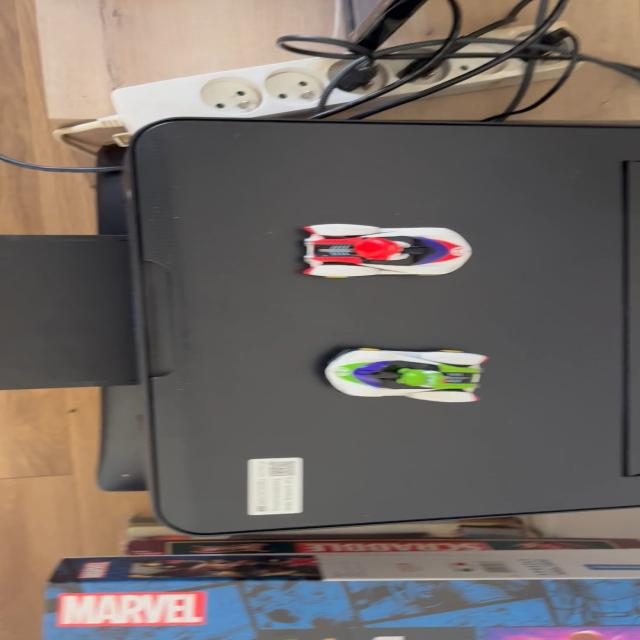mario: (291, 223, 485, 285)
yoshi: (315, 343, 502, 407)
